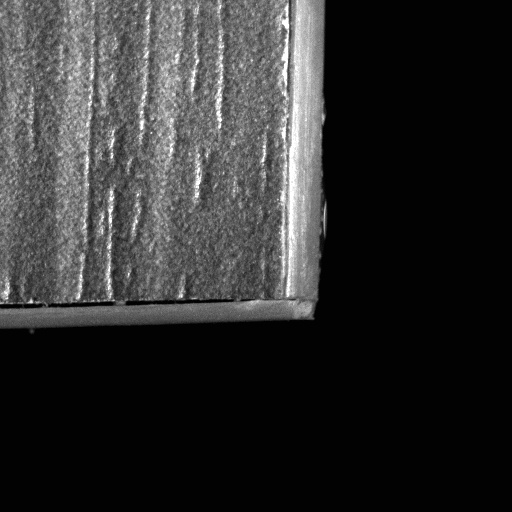jiaofeng: (0, 296, 250, 316)
